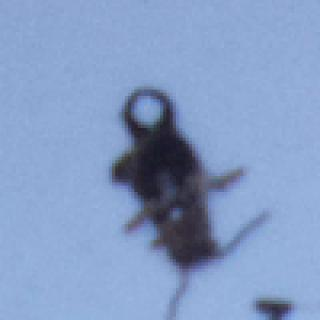earwig: (106, 83, 272, 320)
